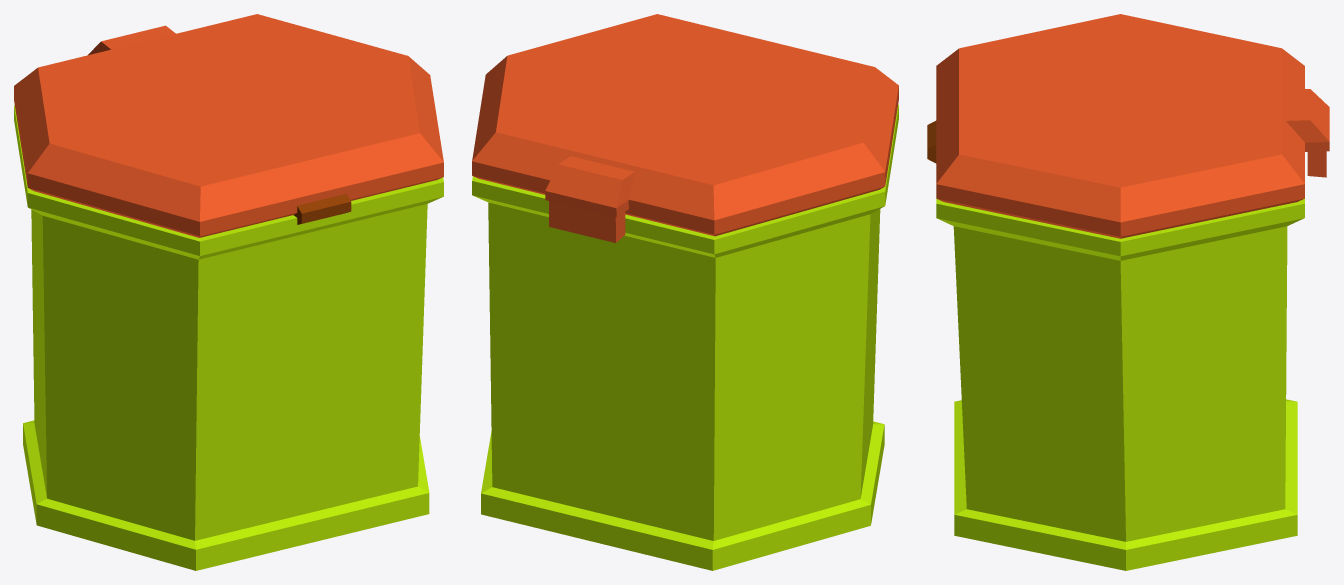
Rendered from Compost_02.fbx.
3 renders of one model, left to right at view 1: azimuth 30°, elevation 25°; view 2: azimuth 150°, elevation 25°; view 3: azimuth 270°, elevation 25°, orthographic.
Parts seen in each view (by area): view 1: Compost_02; view 2: Compost_02; view 3: Compost_02.
Boxes of the visible parts, x1,y1,x2,y2 form: Compost_02: (14, 14, 443, 570); Compost_02: (472, 14, 898, 570); Compost_02: (927, 14, 1329, 570).
Bounding box in the file's own units: 250 × 226 × 218.
